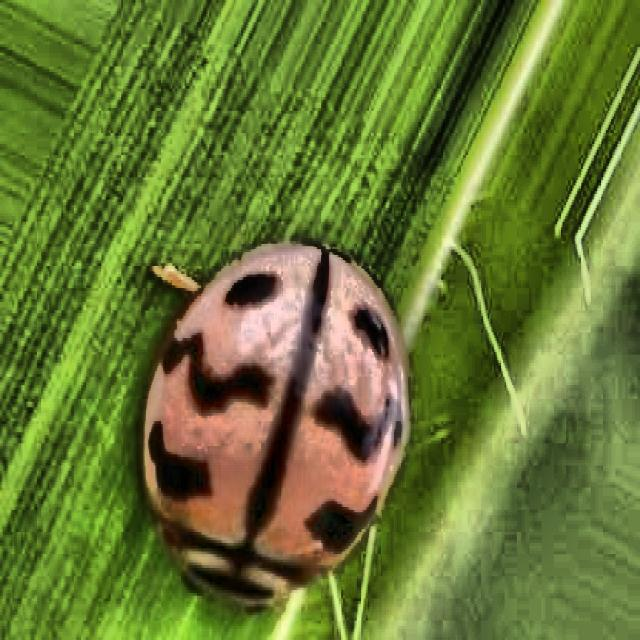Asian-Lady-beetle: (84, 183, 452, 639)
